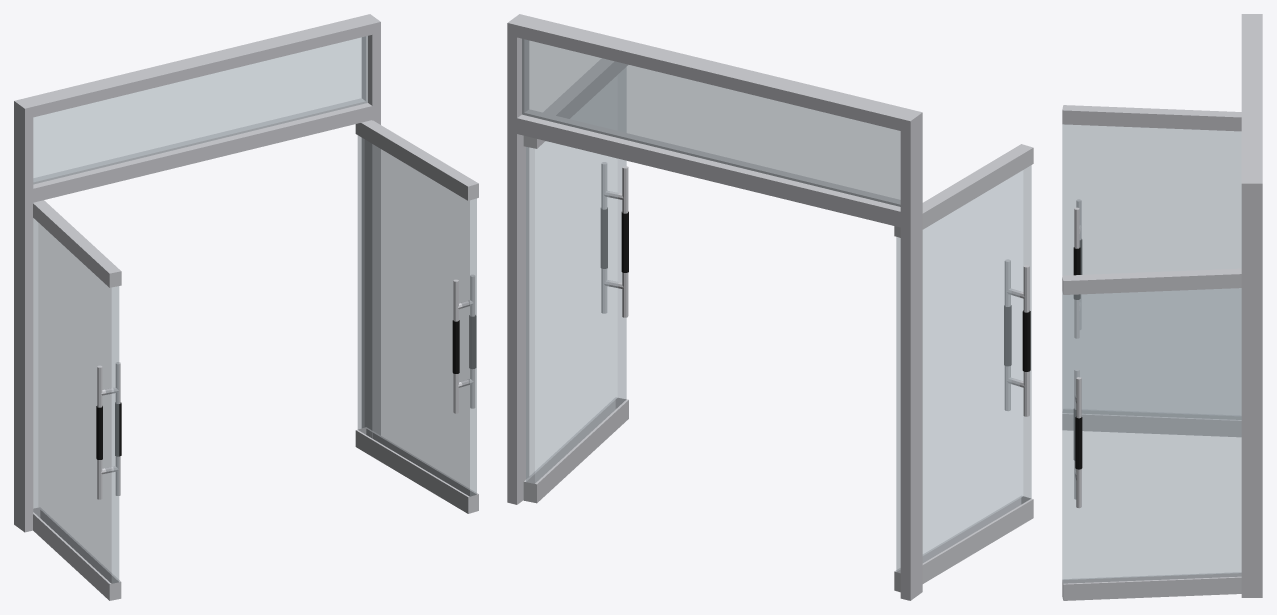
File: multimedia_door_open.fbx
The picture shows the model from 3 angles, left to right: view 1: azimuth 30°, elevation 25°; view 2: azimuth 150°, elevation 25°; view 3: azimuth 270°, elevation 25°; orthographic projection. The views are drawn at different scales.
Parts seen in each view (by area): view 1: multimedia_door_open; view 2: multimedia_door_open; view 3: multimedia_door_open.
Part boxes in pixels (bbox=[...]): multimedia_door_open: bbox=[14, 14, 478, 600]; multimedia_door_open: bbox=[507, 14, 1033, 600]; multimedia_door_open: bbox=[1062, 14, 1262, 600].
Size of the model in its own units: 0.0223 by 0.0238 by 0.0104.
2 materials, 2 textured.
